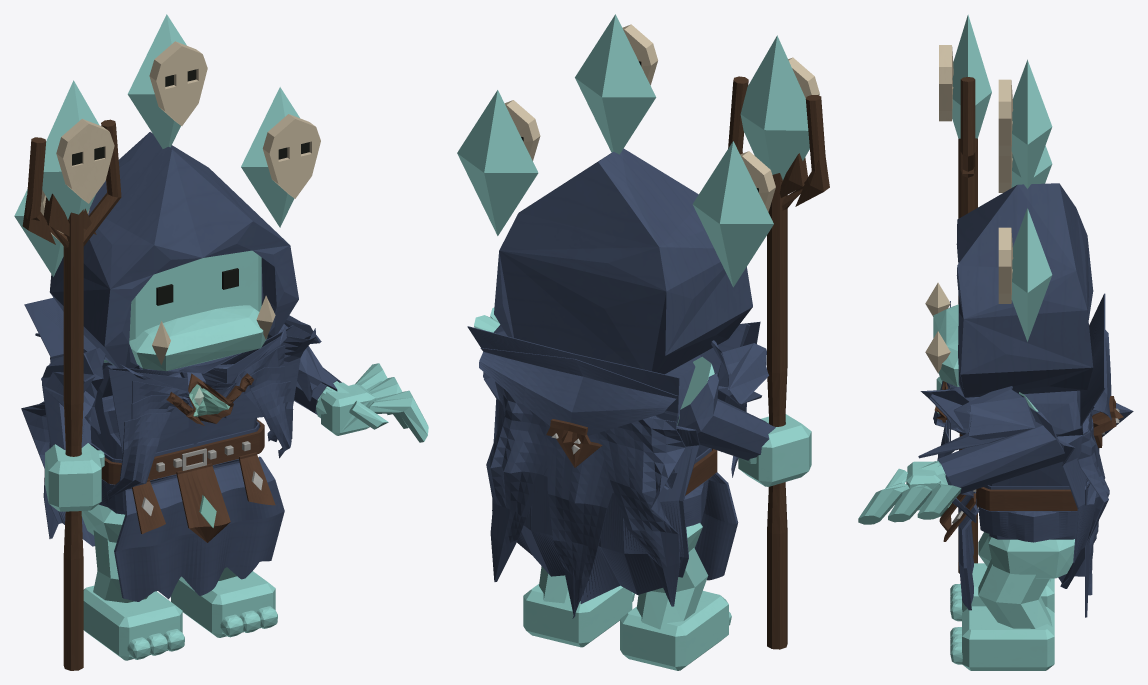
File: host_23.glb
3 renders of one model, left to right at view 1: azimuth 30°, elevation 25°; view 2: azimuth 150°, elevation 25°; view 3: azimuth 270°, elevation 25°, orthographic. The views are drawn at different scales.
Visible parts, largest first — view 1: Pointed brown hood - hollow outer cloth, Source coherent lower jagged shard cloak, One continuous source skull, RIGHT source staff full actual handle, Source continuous coherent front shard mantle, LEFT source open angular palm, RIGHT source planted boot, LEFT source planted boot, RIGHT real compact source grasp source compact planar grasp, Floating ivory mask 0, Floating ivory mask 1, Attached staff ivory mask (+28 smaller); view 2: Pointed brown hood - hollow outer cloth, Source hanging ragged rear cape, V4 source long descending rear shard fold 0, V4 source long descending rear shard fold 5, RIGHT source staff full actual handle, V4 source long descending rear shard fold 4, V4 source long descending rear shard fold 3, Attached staff teal shard, Three independently floating teal shards 0, Three independently floating teal shards 2, Three independently floating teal shards 1, RIGHT source planted boot (+21 smaller); view 3: Pointed brown hood - hollow outer cloth, LEFT hollow outer cloth, LEFT source planted boot, Source hanging ragged rear cape, LEFT source open angular palm, Source23 thin descending shoulder arch -1, LEFT source short joined leg, Three independently floating teal shards 0, Three independently floating teal shards 1, Source connected torso mass, Actual pelvis continues lower torso into thighs, Source fitted ragged hem (+19 smaller).
Boxes of the visible parts, box(x1,y1,x2,y2) form: Pointed brown hood - hollow outer cloth: box(49, 132, 298, 369); Source coherent lower jagged shard cloak: box(114, 456, 284, 601); One continuous source skull: box(129, 250, 267, 371); RIGHT source staff full actual handle: box(63, 209, 83, 670); Source continuous coherent front shard mantle: box(101, 325, 316, 454); LEFT source open angular palm: box(316, 363, 428, 442); RIGHT source planted boot: box(83, 585, 182, 660); LEFT source planted boot: box(171, 571, 275, 637); RIGHT real compact source grasp source compact planar grasp: box(45, 443, 104, 511); Floating ivory mask 0: box(262, 114, 320, 198); Floating ivory mask 1: box(149, 41, 207, 125); Attached staff ivory mask: box(56, 119, 114, 203); Pointed brown hood - hollow outer cloth: box(494, 148, 752, 374); Source hanging ragged rear cape: box(467, 326, 699, 603); V4 source long descending rear shard fold 0: box(479, 348, 677, 435); V4 source long descending rear shard fold 5: box(597, 417, 685, 606); RIGHT source staff full actual handle: box(767, 173, 787, 649); V4 source long descending rear shard fold 4: box(546, 424, 613, 618); V4 source long descending rear shard fold 3: box(486, 388, 547, 581); Attached staff teal shard: box(740, 35, 809, 179); Three independently floating teal shards 0: box(457, 90, 538, 235); Three independently floating teal shards 2: box(692, 141, 773, 287); Three independently floating teal shards 1: box(575, 14, 656, 154); RIGHT source planted boot: box(620, 591, 728, 670); Pointed brown hood - hollow outer cloth: box(956, 183, 1093, 397); LEFT hollow outer cloth: box(937, 406, 1064, 494); LEFT source planted boot: box(962, 606, 1054, 670); Source hanging ragged rear cape: box(1056, 293, 1105, 588); LEFT source open angular palm: box(858, 461, 961, 524); Source23 thin descending shoulder arch -1: box(918, 386, 1035, 458); LEFT source short joined leg: box(978, 559, 1052, 628); Three independently floating teal shards 0: box(1011, 208, 1052, 341); Three independently floating teal shards 1: box(1011, 59, 1052, 188); Source connected torso mass: box(989, 390, 1080, 539); Actual pelvis continues lower torso into thighs: box(988, 534, 1074, 578); Source fitted ragged hem: box(978, 506, 1077, 542).
Bounding box in the file's own units: 1.35 × 2.23 × 0.9618.
Materials: 11 (6 with a texture image).
